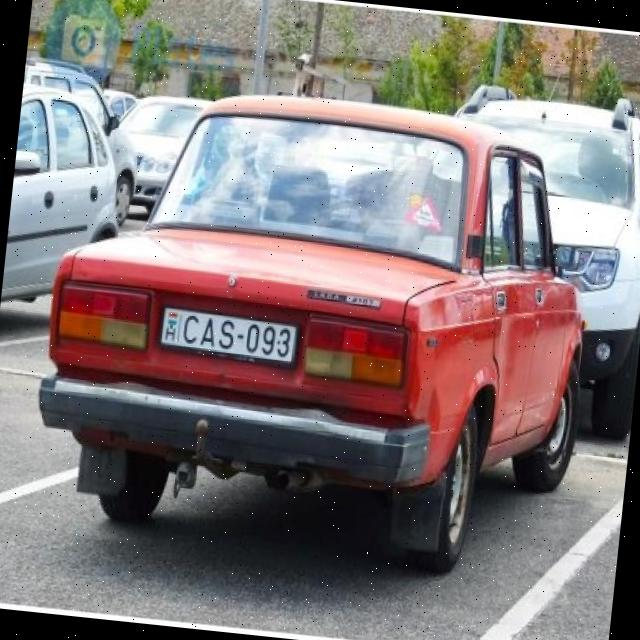licence: (153, 300, 300, 372)
